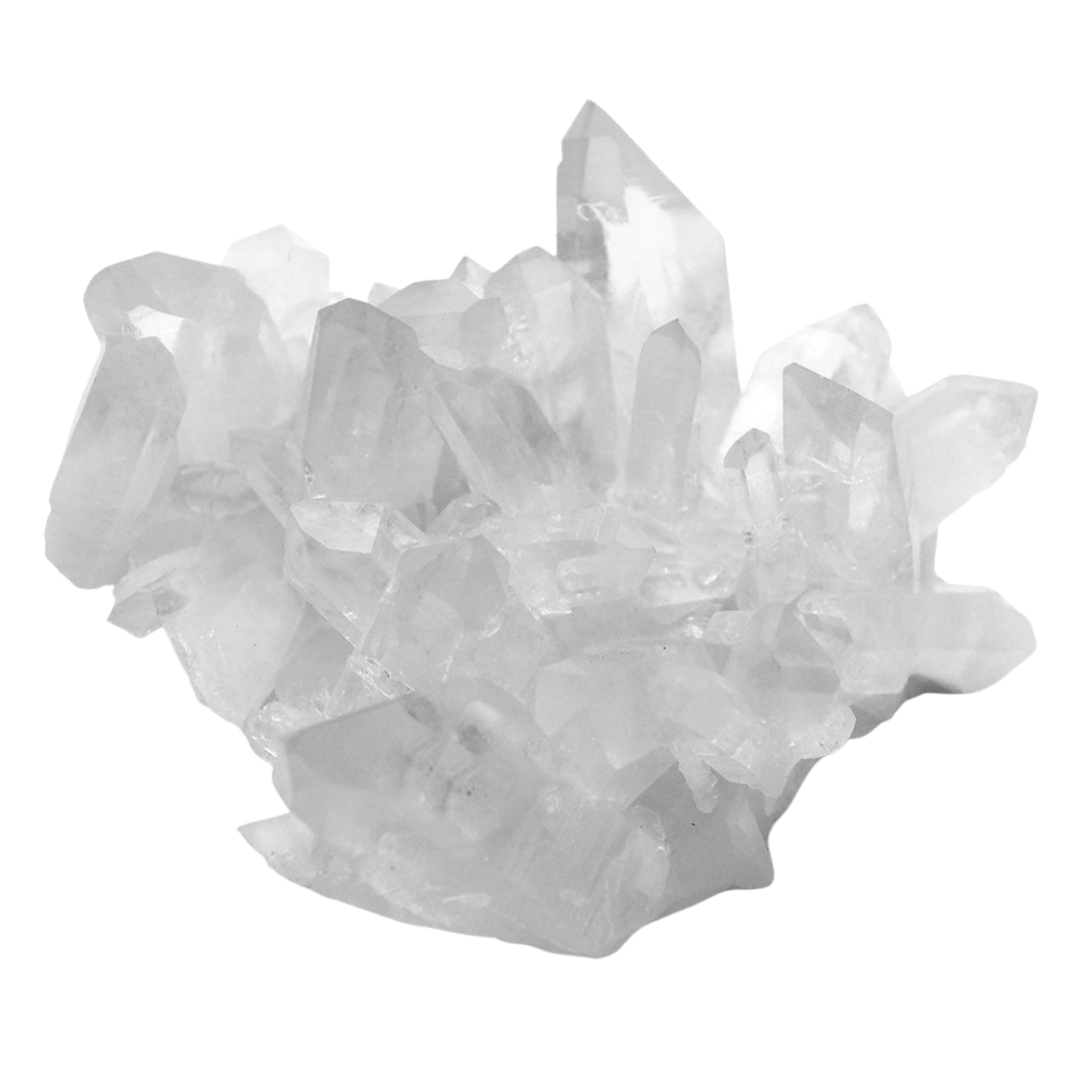Clear_Quartz: (39, 95, 1040, 964)
